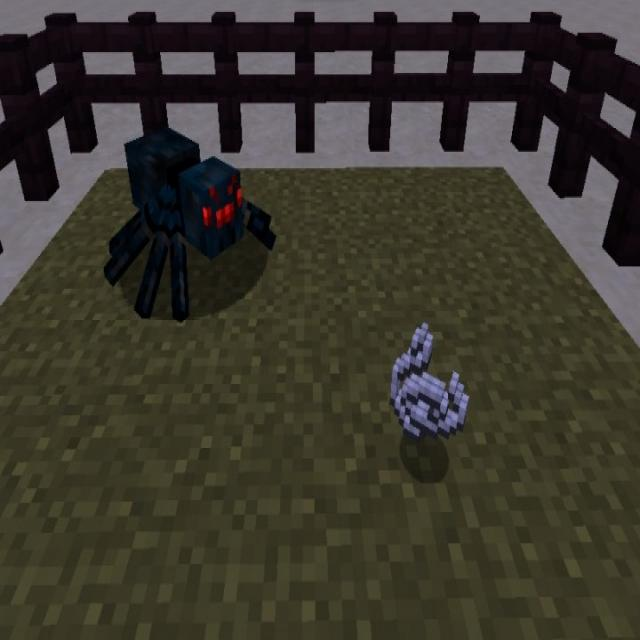Cave Spider: (102, 124, 278, 331)
